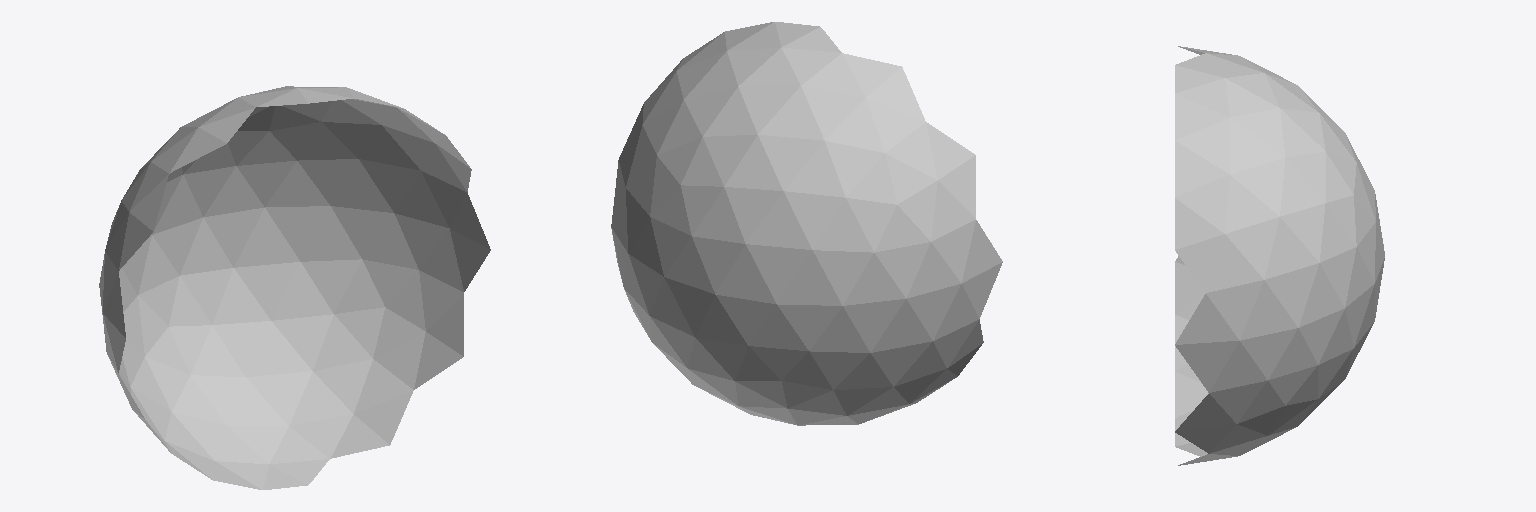
The model's file is helmetshield.obj.
3 views of the same model, side by side, from view 1: azimuth 30°, elevation 25°; view 2: azimuth 150°, elevation 25°; view 3: azimuth 270°, elevation 25° (orthographic).
Parts seen in each view (by area): view 1: Icosphere_Icosphere.001; view 2: Icosphere_Icosphere.001; view 3: Icosphere_Icosphere.001.
Part boxes in pixels (x1,y1,x2,y2): Icosphere_Icosphere.001: (99, 86, 490, 489); Icosphere_Icosphere.001: (611, 22, 1002, 425); Icosphere_Icosphere.001: (1175, 46, 1384, 465).
Size of the model in its own units: 1.12 by 1.12 by 0.5625.